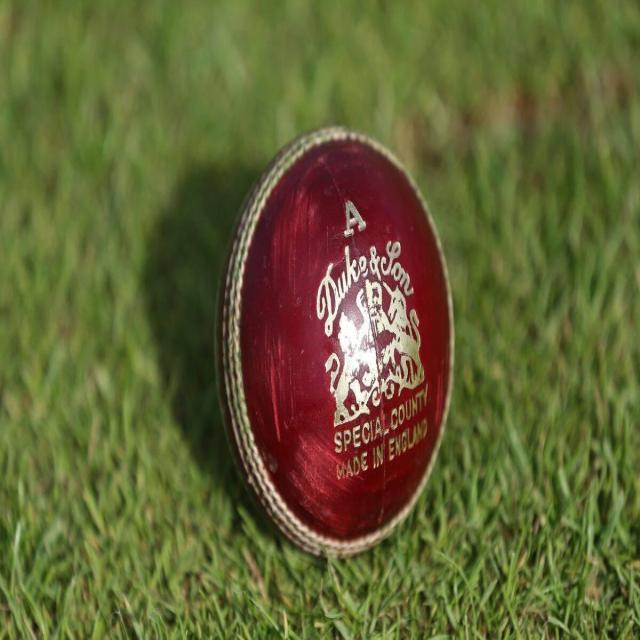ball: (217, 128, 456, 554)
